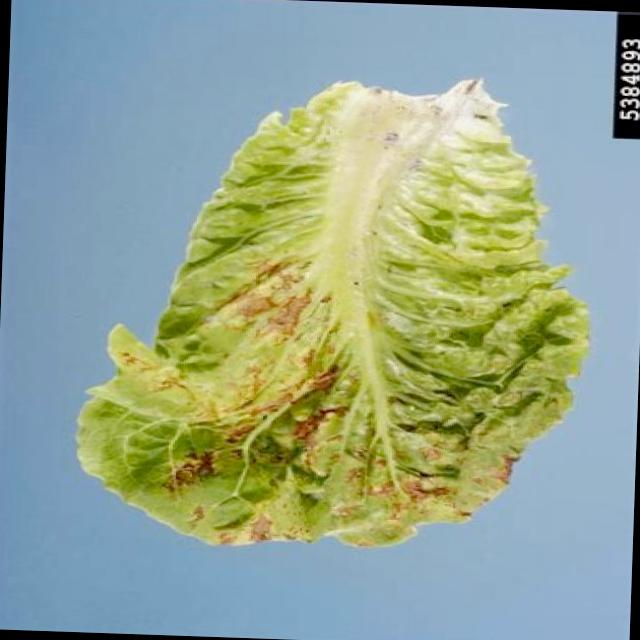lettuce mosaic virus: (173, 87, 563, 544)
